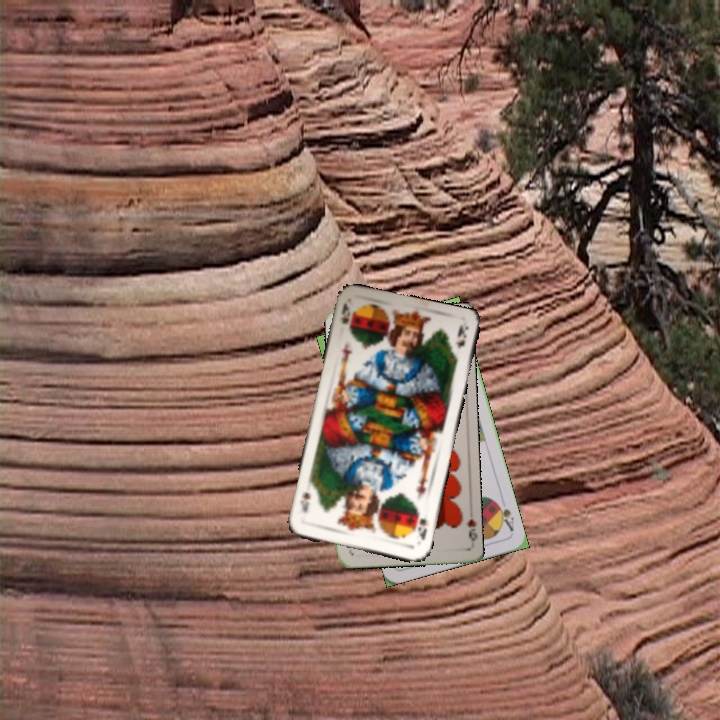H9: (462, 515, 478, 544)
SA: (491, 497, 517, 534)
SK: (410, 508, 429, 543), (336, 299, 353, 326)
